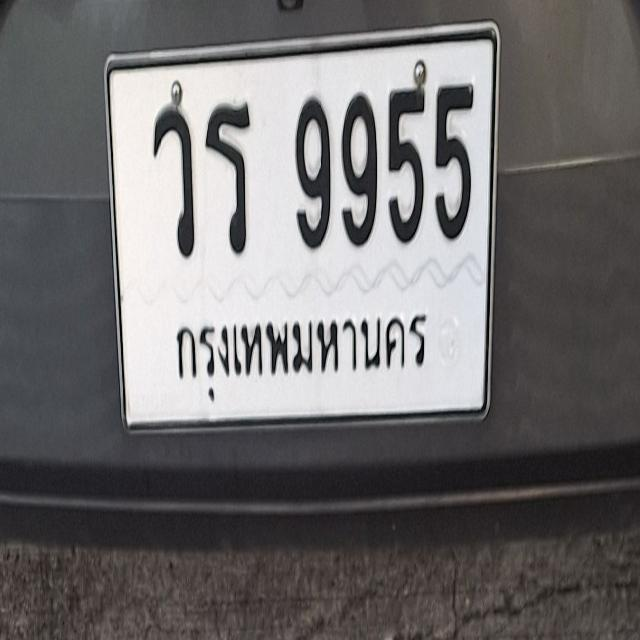plate: (109, 67, 488, 407)
